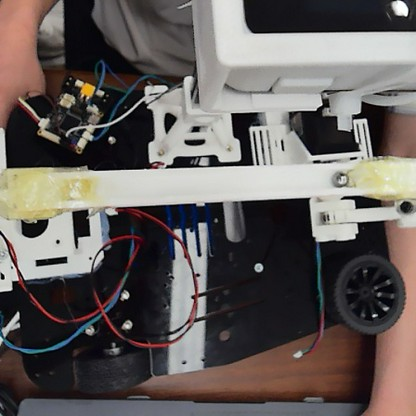ironball: (332, 169, 348, 188)
